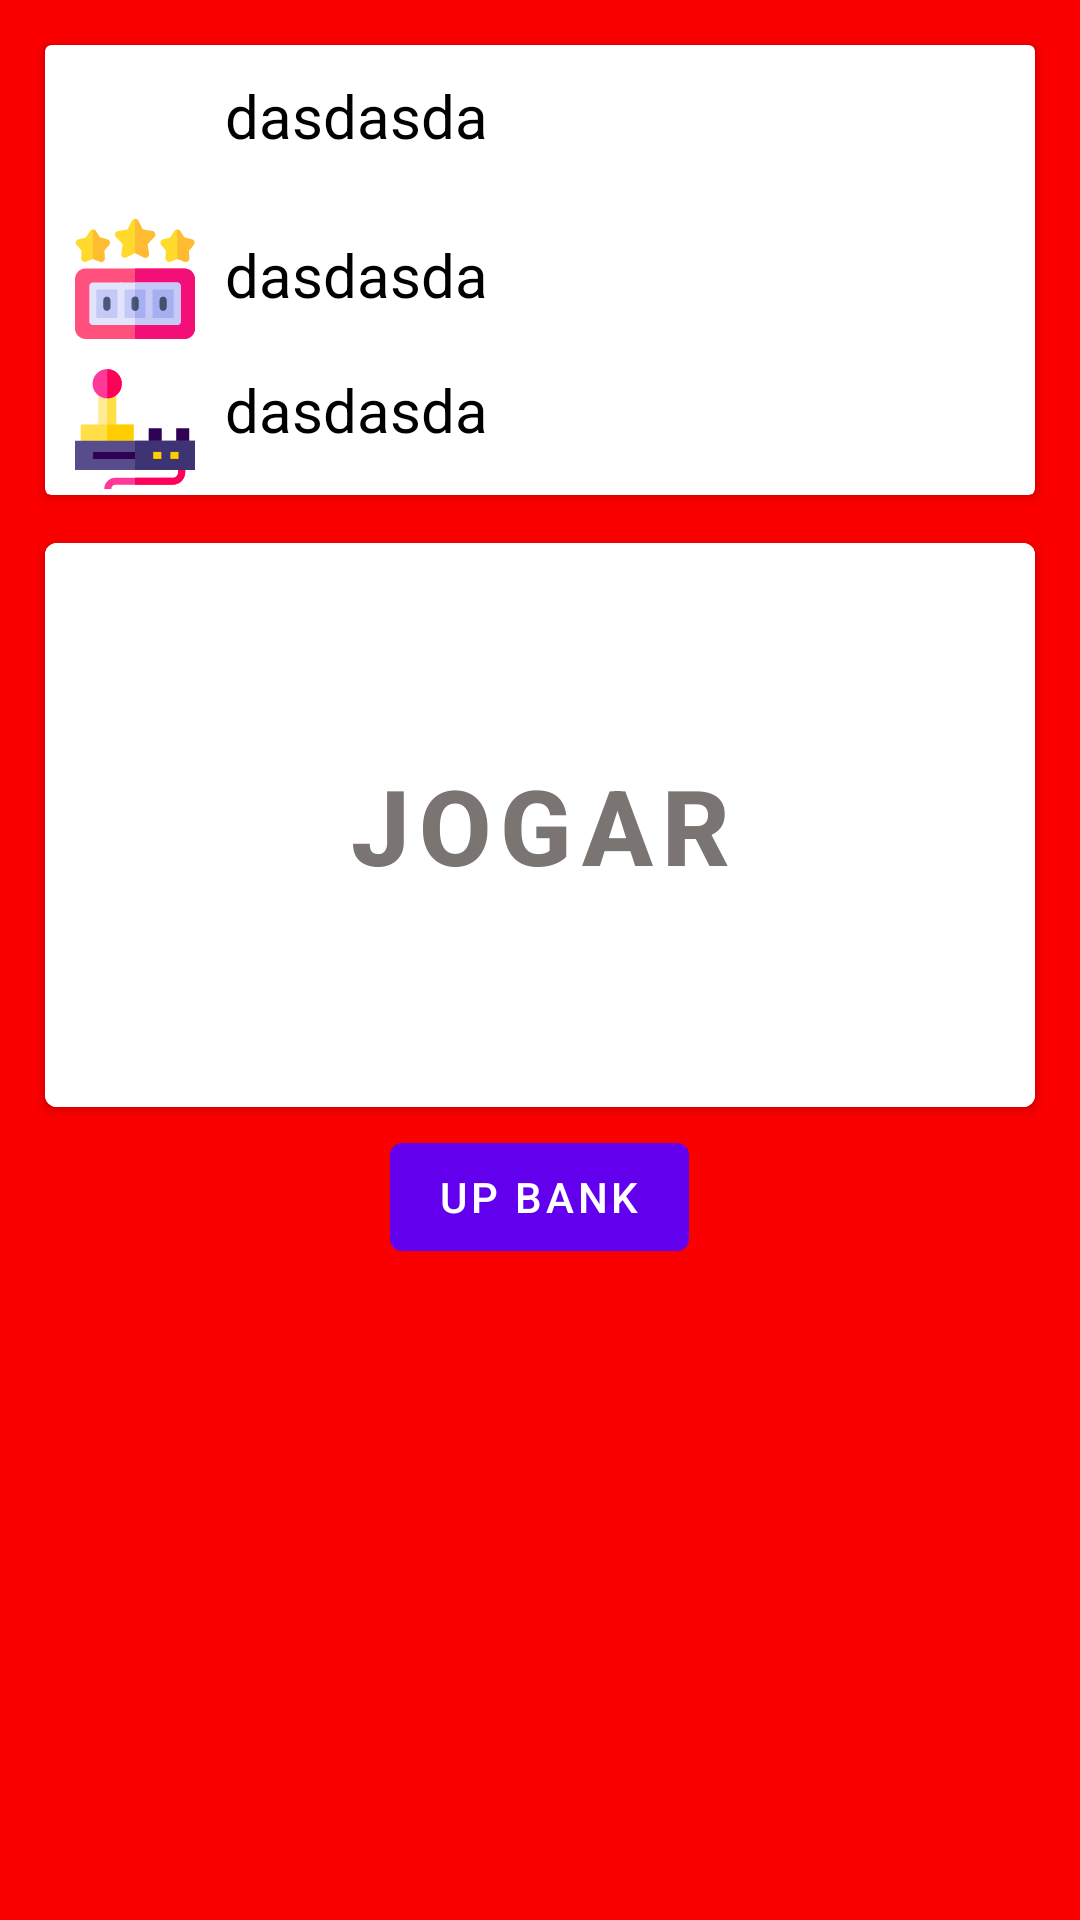

Locate icon controls on the screen. Image size 1080×1920, boxes as [left=x1, top=y1, right=x2, bottom=y2].
score: [left=75, top=219, right=195, bottom=339]
videogame: [left=75, top=369, right=195, bottom=489]
